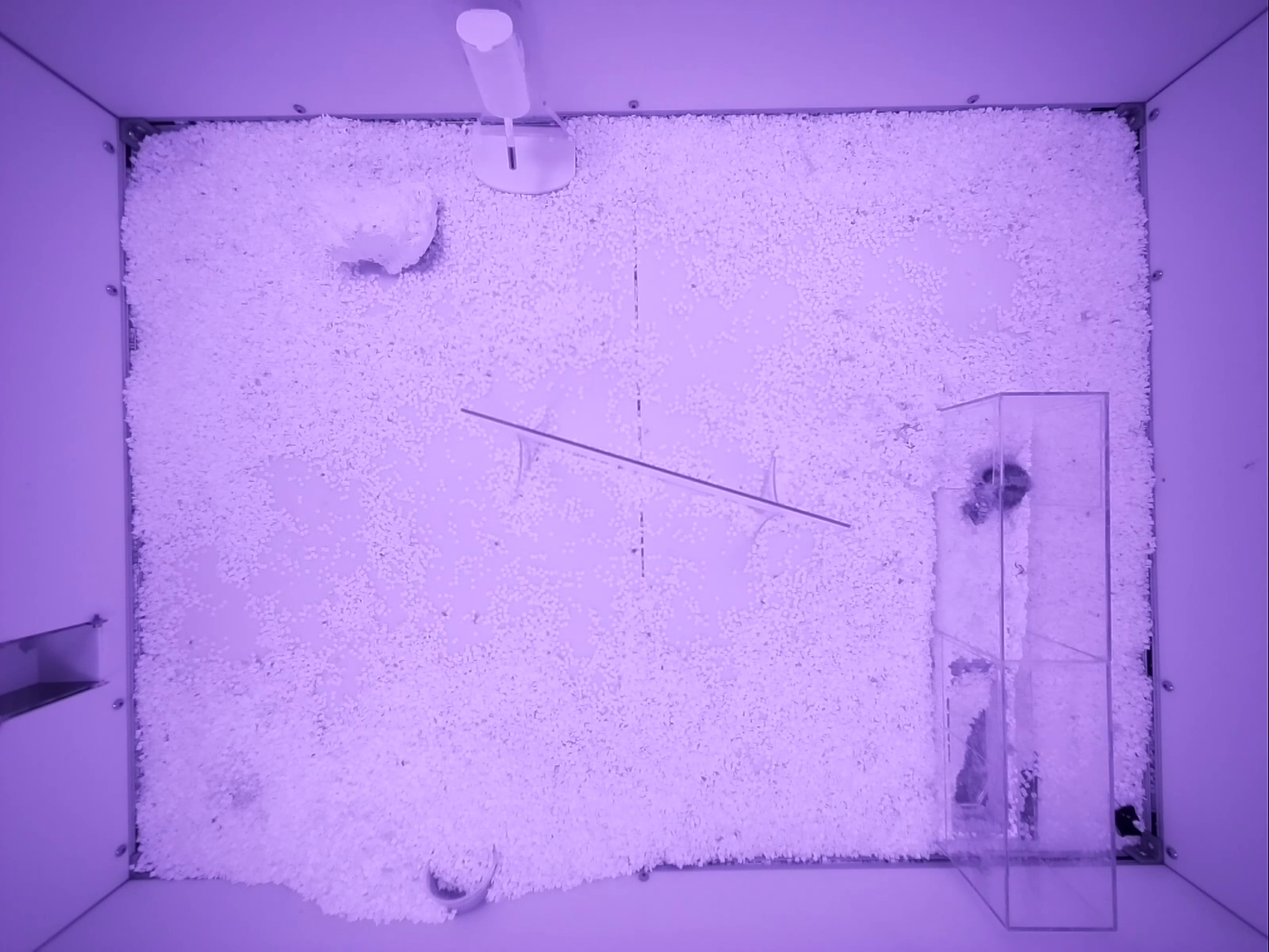adult_back: (961, 461, 1030, 524)
